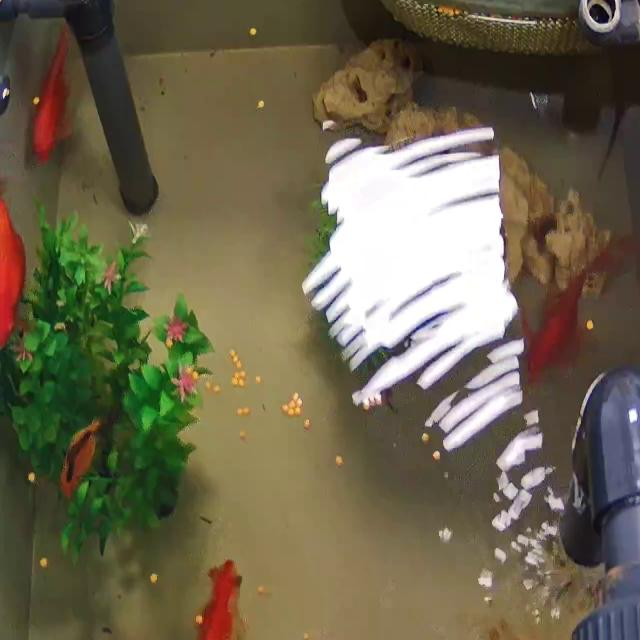fish: (520, 226, 640, 372), (32, 25, 73, 165), (187, 556, 247, 640), (59, 399, 109, 499), (0, 179, 26, 349)
